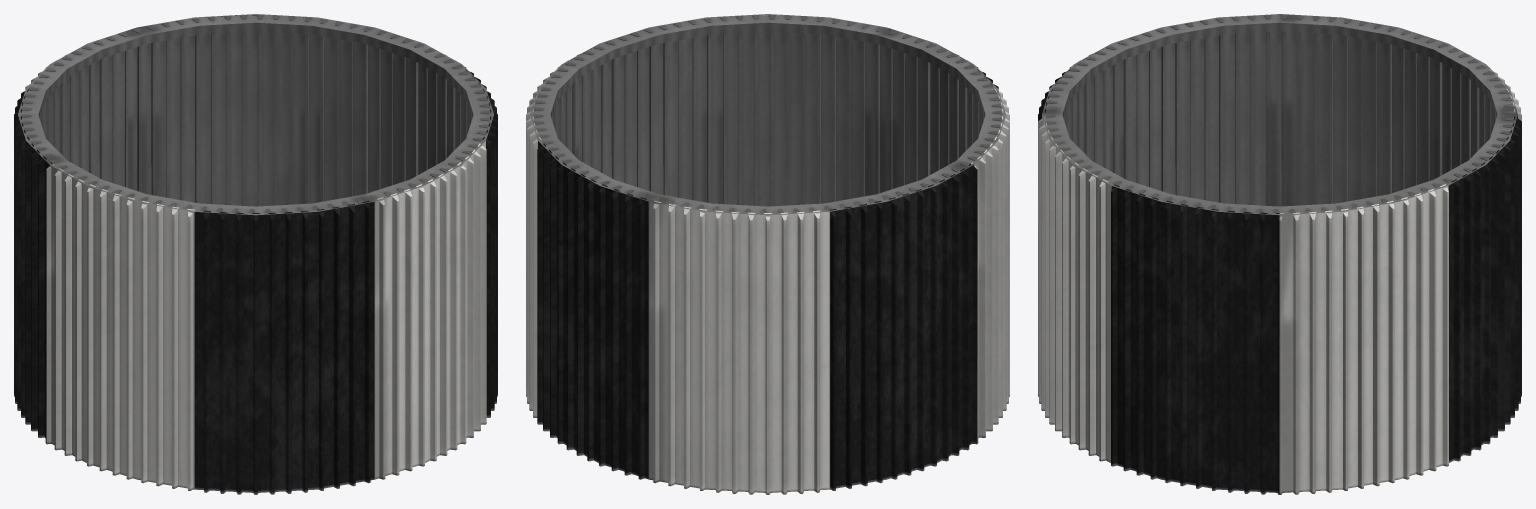
The model's file is ksprocket.fbx.
3 views of the same model, side by side, from view 1: azimuth 30°, elevation 25°; view 2: azimuth 150°, elevation 25°; view 3: azimuth 270°, elevation 25° (orthographic).
Visible parts, largest first — view 1: Cylinder.005; view 2: Cylinder.005; view 3: Cylinder.005.
Boxes of the visible parts, box(x1,y1,x2,y2) form: Cylinder.005: box(14, 14, 497, 494); Cylinder.005: box(526, 14, 1009, 494); Cylinder.005: box(1038, 14, 1521, 494).
Size of the model in its own units: 1027 by 652 by 1026.
